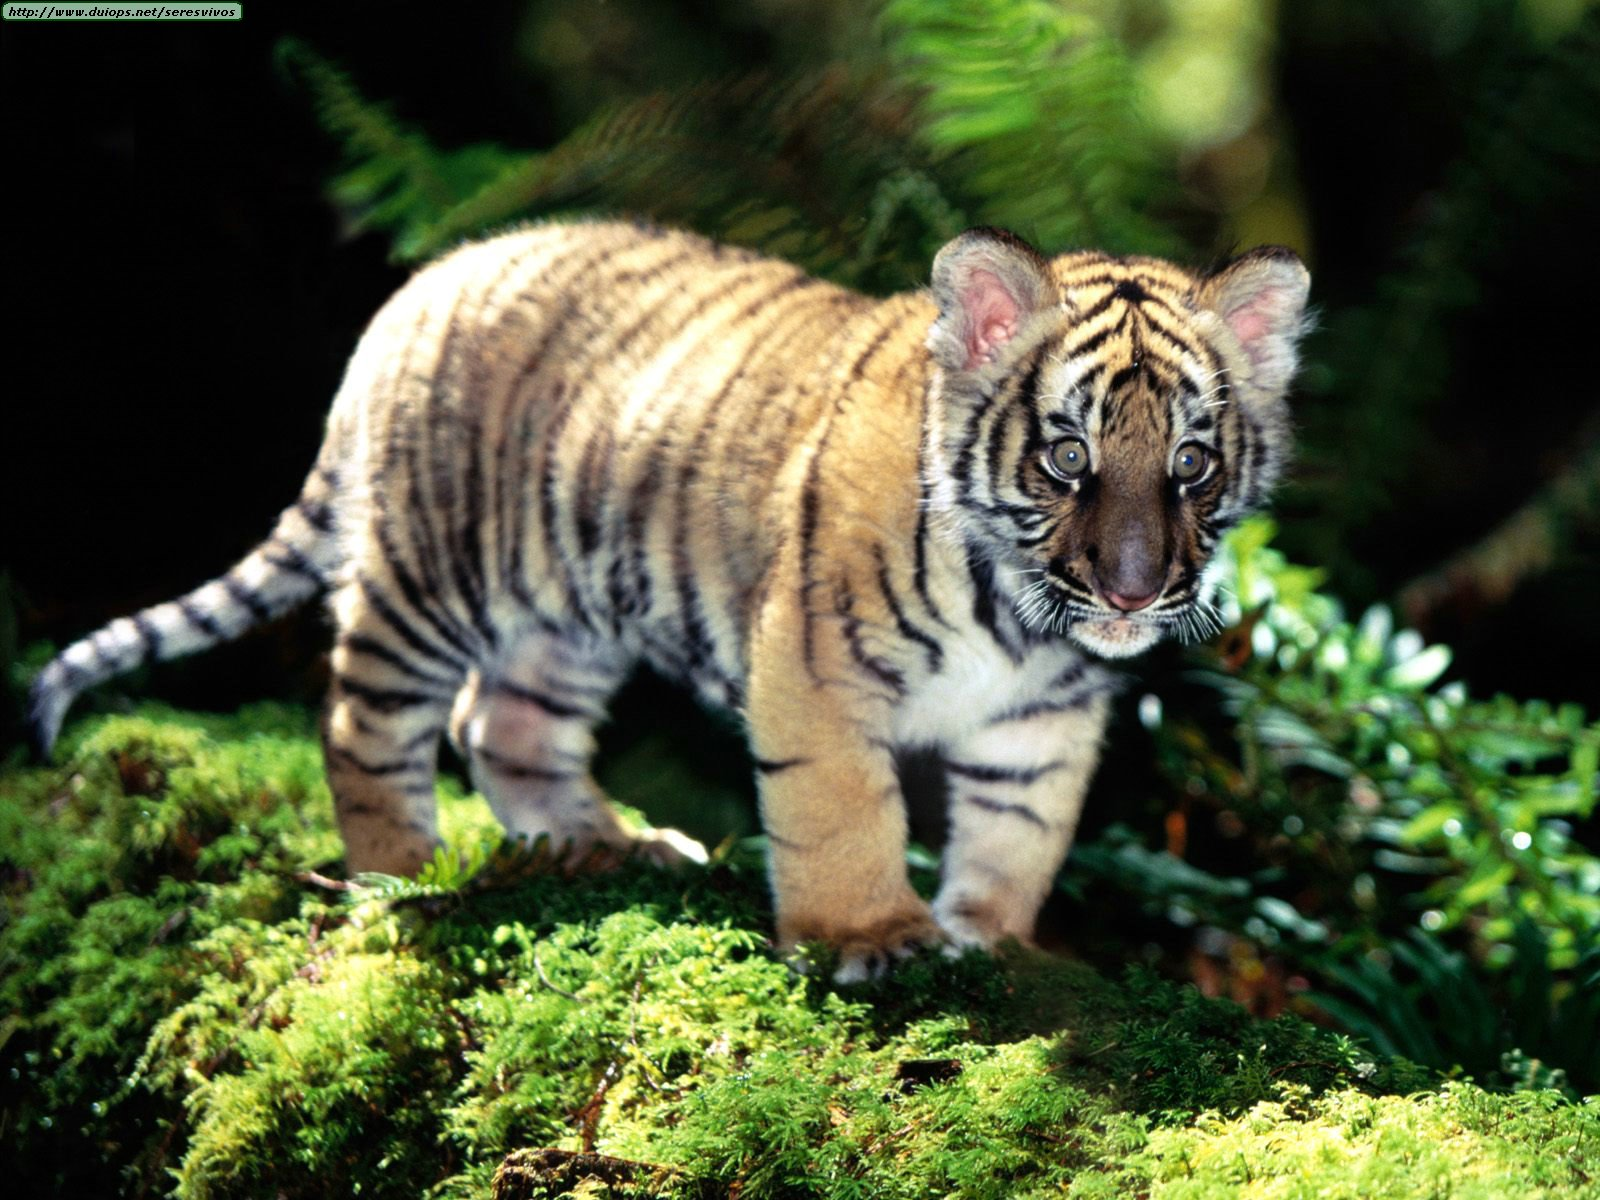Tigre: (173, 146, 1324, 962)
